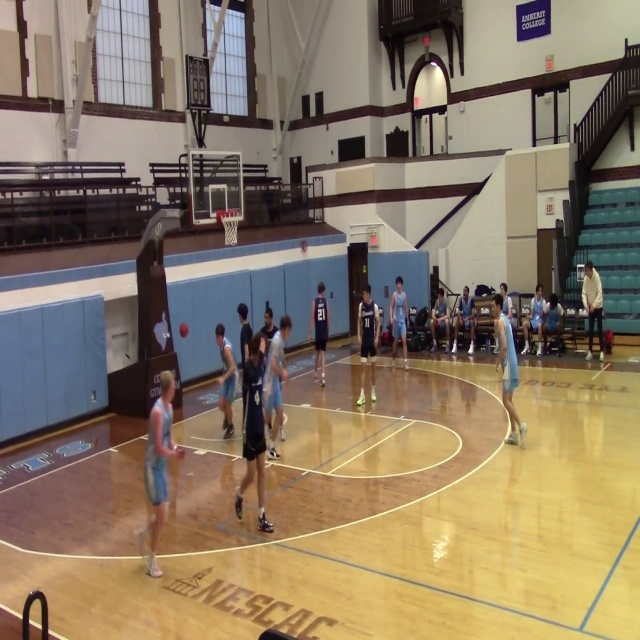Basketball: (179, 323, 189, 337), (176, 448, 185, 459)
